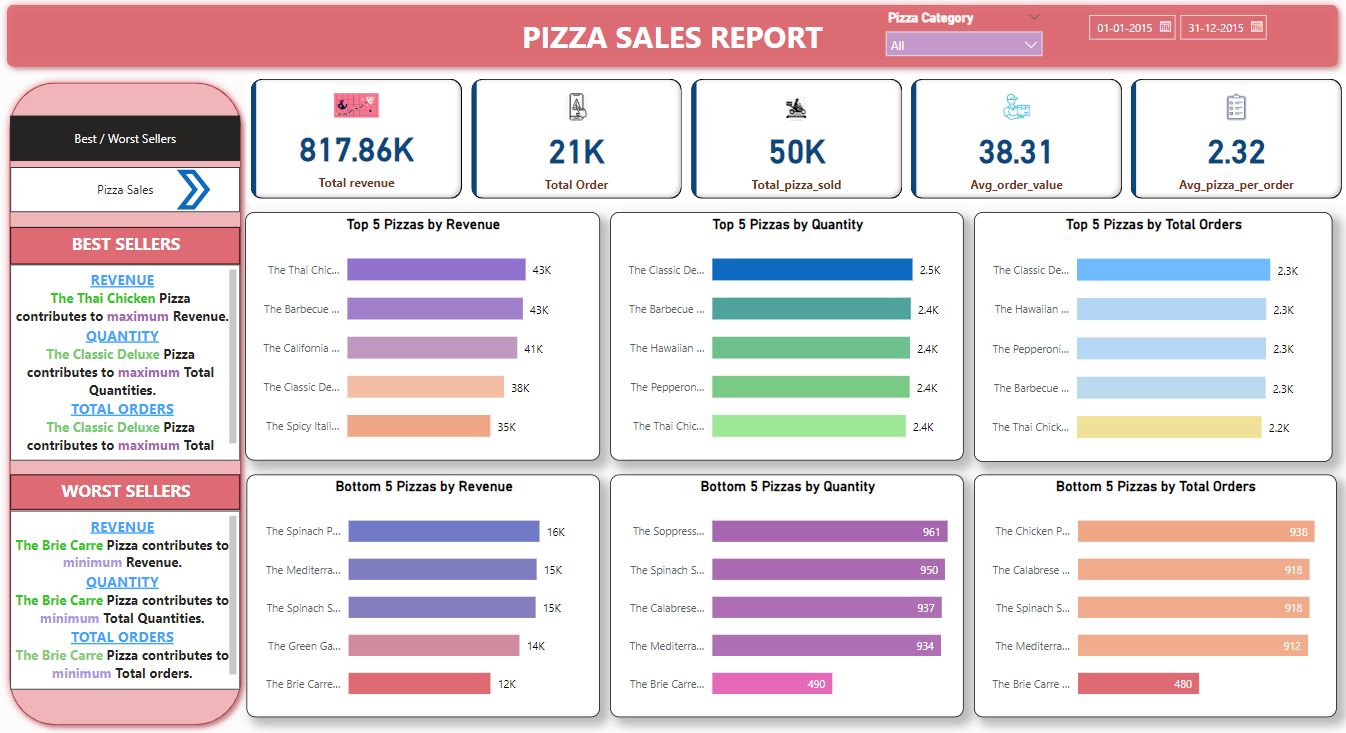

The dashboard page shown, as its layout file describes it:
{"tool":"powerbi","page":{"name":"Best / Worst Sellers","canvas":[1500,820],"ordinal":1},"visuals":[{"type":"shape","box":[2.8,86.3,275.7,733.7],"z":0},{"type":"cardVisual","fields":{"Data":["pizza_sales.Total revenue","pizza_sales.Total Order","pizza_sales.Total_pizza_sold","pizza_sales.Avg_order_value","pizza_sales.Avg_pizza_per_order"]},"box":[275,86.1,1225,143.1],"z":1000},{"type":"barChart","title":"Top 5 Pizzas by Revenue","fields":{"Category":["pizza_sales.pizza_name"],"Y":["pizza_sales.Total revenue"]},"box":[274.3,239.5,395.4,277],"z":2000},{"type":"shape","box":[0,0,1500,86.1],"z":3000},{"type":"textbox","box":[12.5,256.2,256.2,41.8],"z":4000},{"type":"textbox","box":[12.5,297.9,256.2,218.6],"z":5000},{"type":"textbox","box":[12.5,572.2,256.2,199.1],"z":6000},{"type":"textbox","box":[12.5,531.8,256.2,39],"z":7000},{"type":"slicer","fields":{"Values":["pizza_sales.pizza_category"]},"box":[977.8,9.7,194.4,68.1],"z":8000},{"type":"slicer","fields":{"Values":["pizza_sales.order_date"]},"box":[1201.4,9.7,223.6,68.1],"z":9000},{"type":"barChart","title":"Bottom 5 Pizzas by Revenue","fields":{"Category":["pizza_sales.pizza_name"],"Y":["pizza_sales.Total revenue"]},"box":[275.7,531.8,394,270.1],"z":10000},{"type":"barChart","title":"Top 5 Pizzas by Quantity","fields":{"Category":["pizza_sales.pizza_name"],"Y":["pizza_sales.Total_pizza_sold"]},"box":[680.8,239.5,394,277],"z":11000},{"type":"barChart","title":"Bottom 5 Pizzas by Quantity","fields":{"Category":["pizza_sales.pizza_name"],"Y":["pizza_sales.Total_pizza_sold"]},"box":[680.8,531.8,394,270.1],"z":12000},{"type":"barChart","title":"Top 5 Pizzas by Total Orders","fields":{"Category":["pizza_sales.pizza_name"],"Y":["pizza_sales.Total Order"]},"box":[1085.9,239.5,399.6,278.4],"z":13000},{"type":"barChart","title":"Bottom 5 Pizzas by Total Orders","fields":{"Category":["pizza_sales.pizza_name"],"Y":["pizza_sales.Total Order"]},"box":[1085.9,531.8,403.7,270.1],"z":14000},{"type":"pageNavigator","box":[12.5,132.3,256.2,50.1],"z":15000},{"type":"pageNavigator","box":[12.5,189.3,256.2,50.1],"z":16000},{"type":"shape","box":[197.7,192.1,37.6,44.6],"z":17000}]}

Visuals, with their boxes in screenshot pixels (x1, y1, x2, y2), scaled from the page's 1500x820 canvas onto the 1346x733 screenshot:
shape: {"left": 3, "top": 77, "right": 250, "bottom": 732}
cardVisual - pizza_sales.Total revenue x pizza_sales.Total Order: {"left": 247, "top": 77, "right": 1345, "bottom": 205}
"Top 5 Pizzas by Revenue" barChart: {"left": 246, "top": 214, "right": 601, "bottom": 462}
shape: {"left": 0, "top": 0, "right": 1345, "bottom": 77}
textbox: {"left": 11, "top": 229, "right": 241, "bottom": 266}
textbox: {"left": 11, "top": 266, "right": 241, "bottom": 462}
textbox: {"left": 11, "top": 511, "right": 241, "bottom": 689}
textbox: {"left": 11, "top": 475, "right": 241, "bottom": 510}
slicer - pizza_sales.pizza_category: {"left": 877, "top": 9, "right": 1052, "bottom": 70}
slicer - pizza_sales.order_date: {"left": 1078, "top": 9, "right": 1279, "bottom": 70}
"Bottom 5 Pizzas by Revenue" barChart: {"left": 247, "top": 475, "right": 601, "bottom": 717}
"Top 5 Pizzas by Quantity" barChart: {"left": 611, "top": 214, "right": 964, "bottom": 462}
"Bottom 5 Pizzas by Quantity" barChart: {"left": 611, "top": 475, "right": 964, "bottom": 717}
"Top 5 Pizzas by Total Orders" barChart: {"left": 974, "top": 214, "right": 1333, "bottom": 463}
"Bottom 5 Pizzas by Total Orders" barChart: {"left": 974, "top": 475, "right": 1337, "bottom": 717}
pageNavigator: {"left": 11, "top": 118, "right": 241, "bottom": 163}
pageNavigator: {"left": 11, "top": 169, "right": 241, "bottom": 214}
shape: {"left": 177, "top": 172, "right": 211, "bottom": 212}
